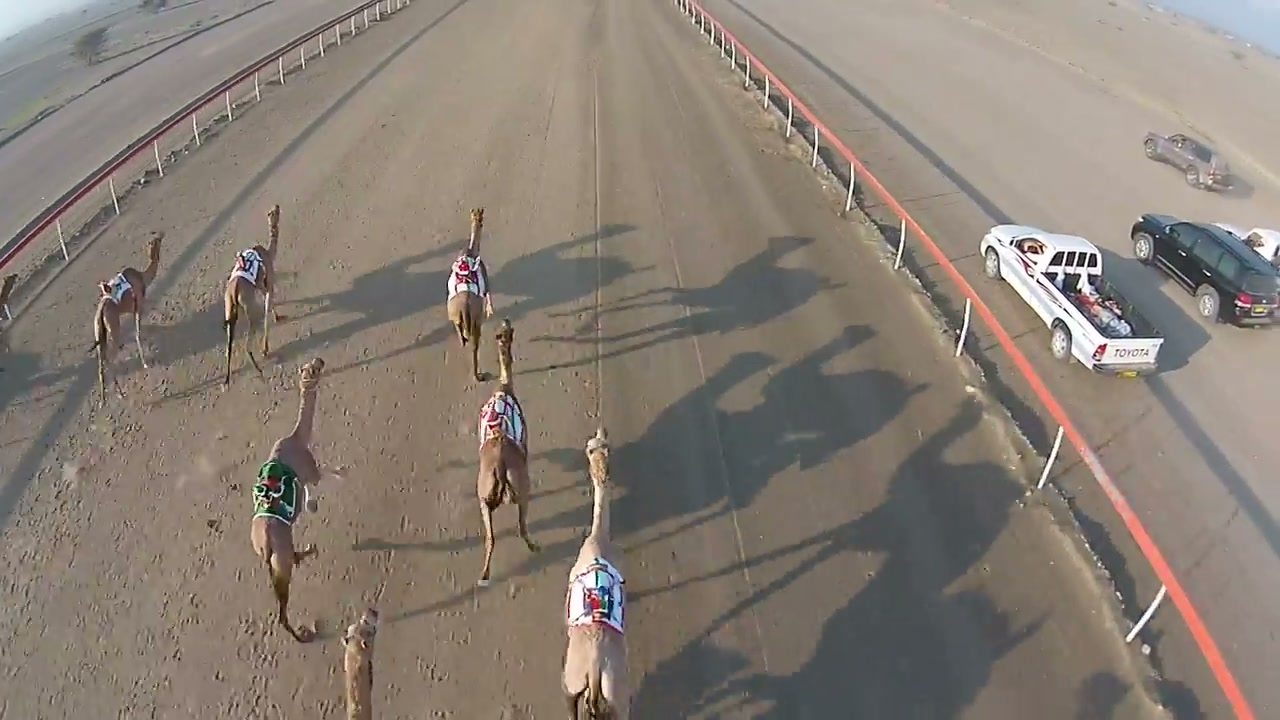animal_footprint: (129, 347, 291, 702), (0, 406, 186, 637), (422, 555, 540, 719)
